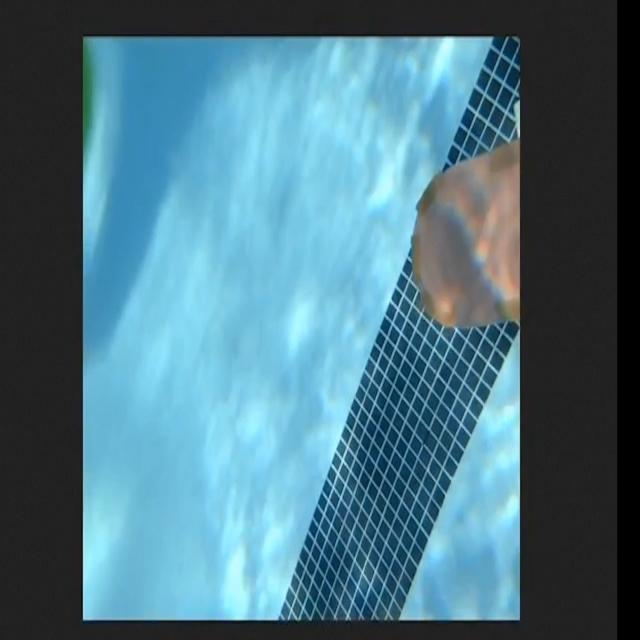Path: (408, 130, 521, 334)
